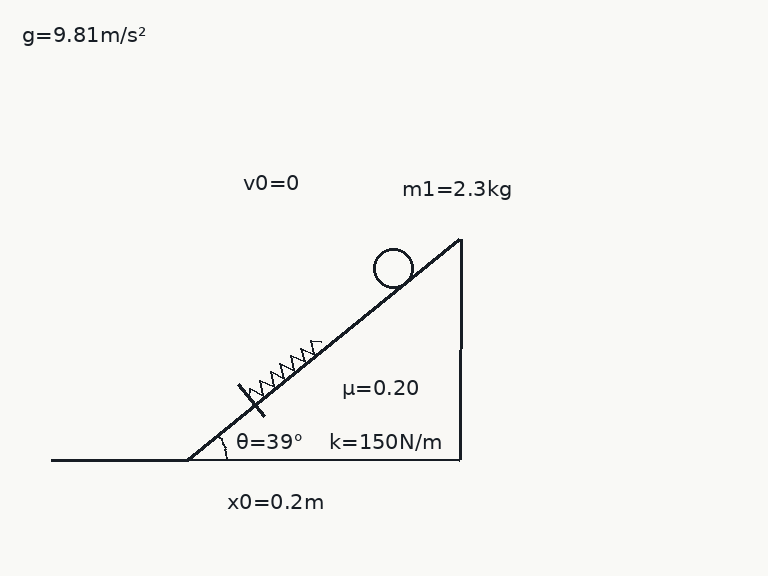ball: (371, 246, 415, 290)
ramp: (185, 237, 462, 462)
spring: (248, 337, 322, 400)
